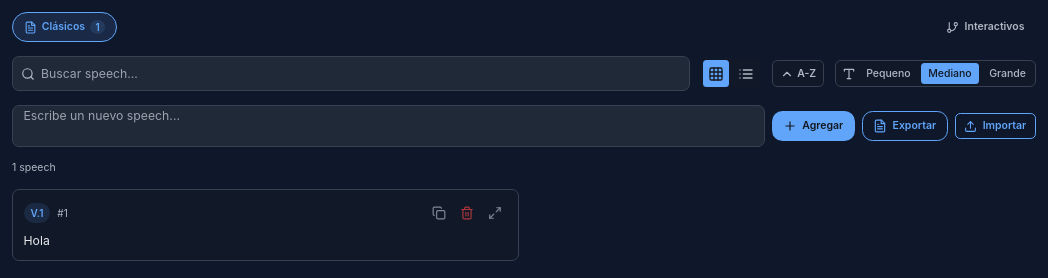
it: SpeechsView (pills Clásicos | Interactivos) › cambia a Interactivos y vuelve a Clásicos
Click the button "Interactivos" at [985, 27], box left=935, top=12, right=1036, bottom=42
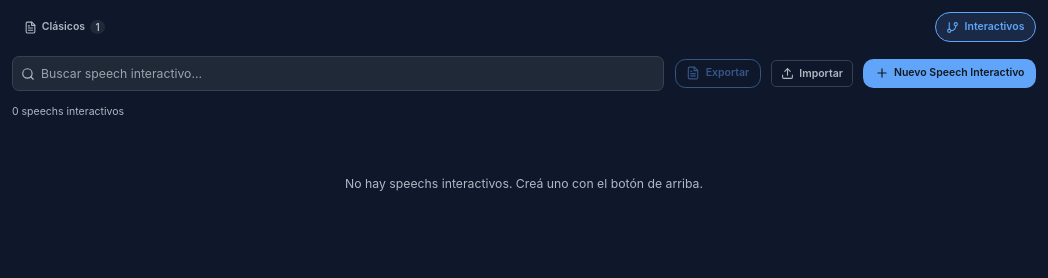
Expected: the field with placeholder "Escribe un nuevo speech..." is not shown
Expected: the text "No hay speechs interactivos. Creá uno con el botón de arriba." is shown, left=345, top=176, right=703, bottom=191
Click the text "Clásicos" at [63, 27], box left=42, top=20, right=85, bottom=34
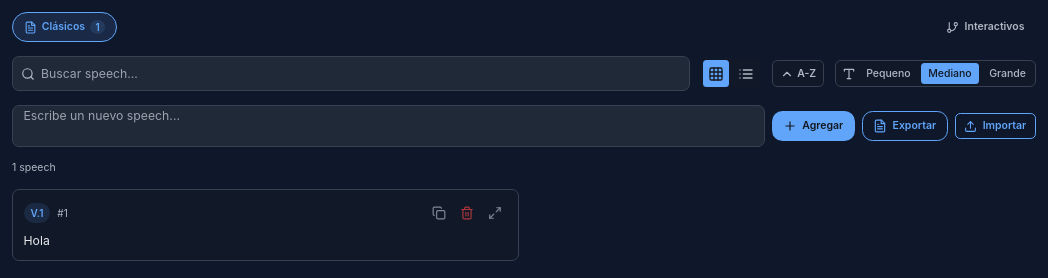
Expected: the text box with placeholder "Escribe un nuevo speech..." is shown, left=12, top=105, right=765, bottom=147
Expected: the text "No hay speechs interactivos. Creá uno con el botón de arriba." is gone
